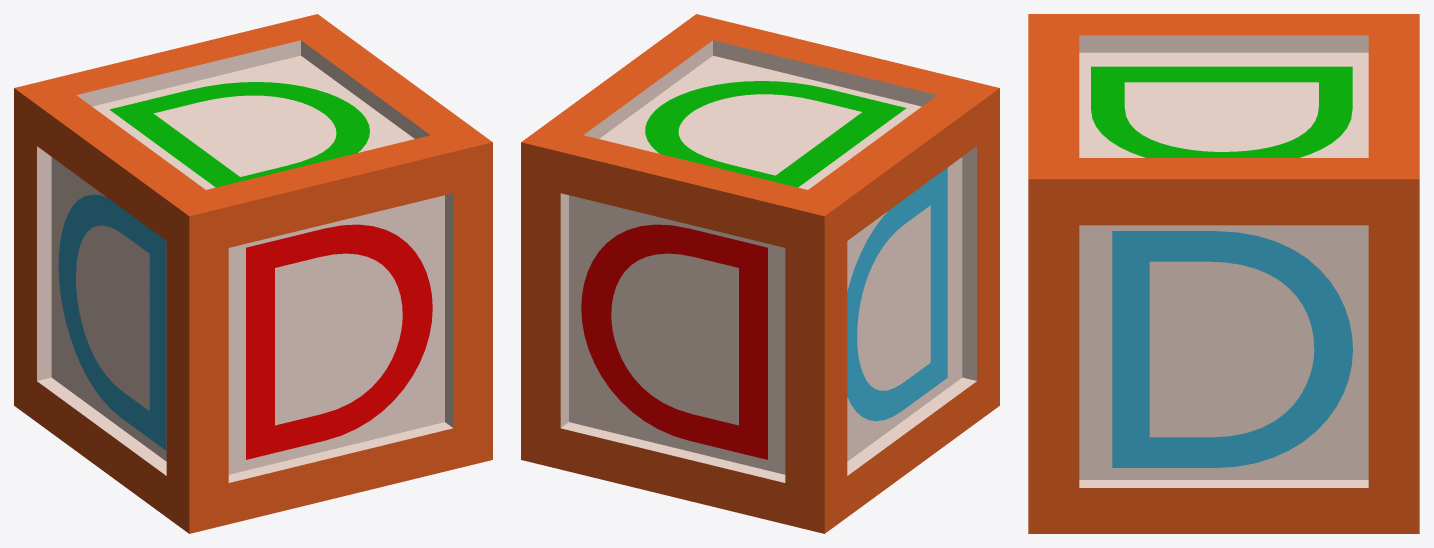
Rendered from Prop_KidsCube_D.fbx.
3 renders of one model, left to right at view 1: azimuth 30°, elevation 25°; view 2: azimuth 150°, elevation 25°; view 3: azimuth 270°, elevation 25°, orthographic. The views are drawn at different scales.
Visible parts, largest first — view 1: Prop_KidsCube_D; view 2: Prop_KidsCube_D; view 3: Prop_KidsCube_D.
Boxes of the visible parts, x1,y1,x2,y2 form: Prop_KidsCube_D: [14, 14, 492, 533]; Prop_KidsCube_D: [521, 14, 999, 533]; Prop_KidsCube_D: [1028, 14, 1419, 533].
Bounding box in the file's own units: 20.93 × 20.93 × 20.93.
